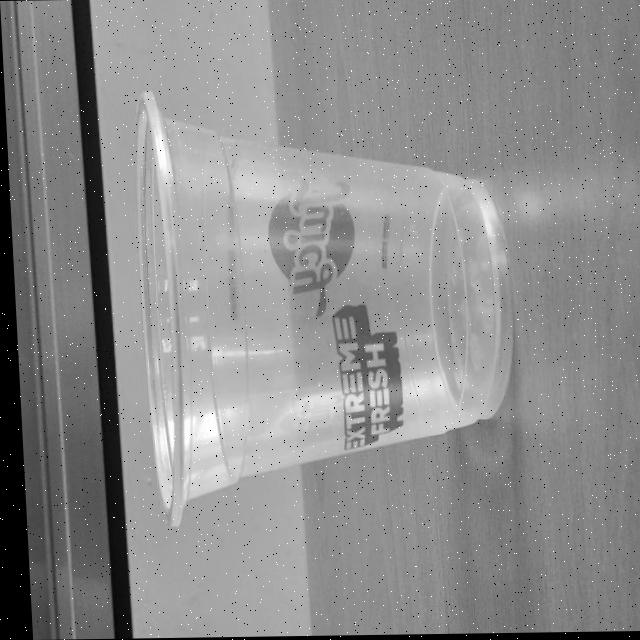cup: (134, 92, 507, 526)
